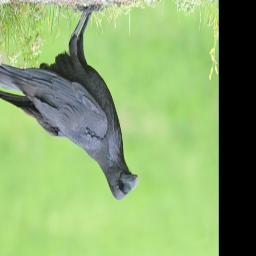Crow: (0, 2, 140, 202)
